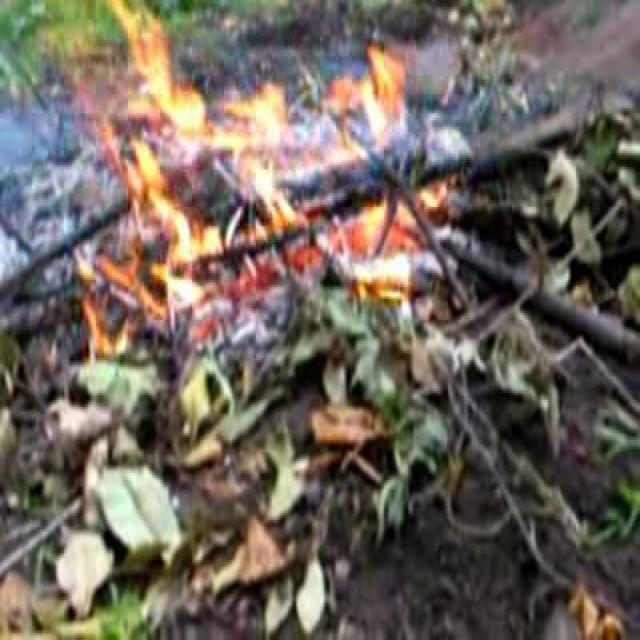Fire: (121, 6, 427, 302)
